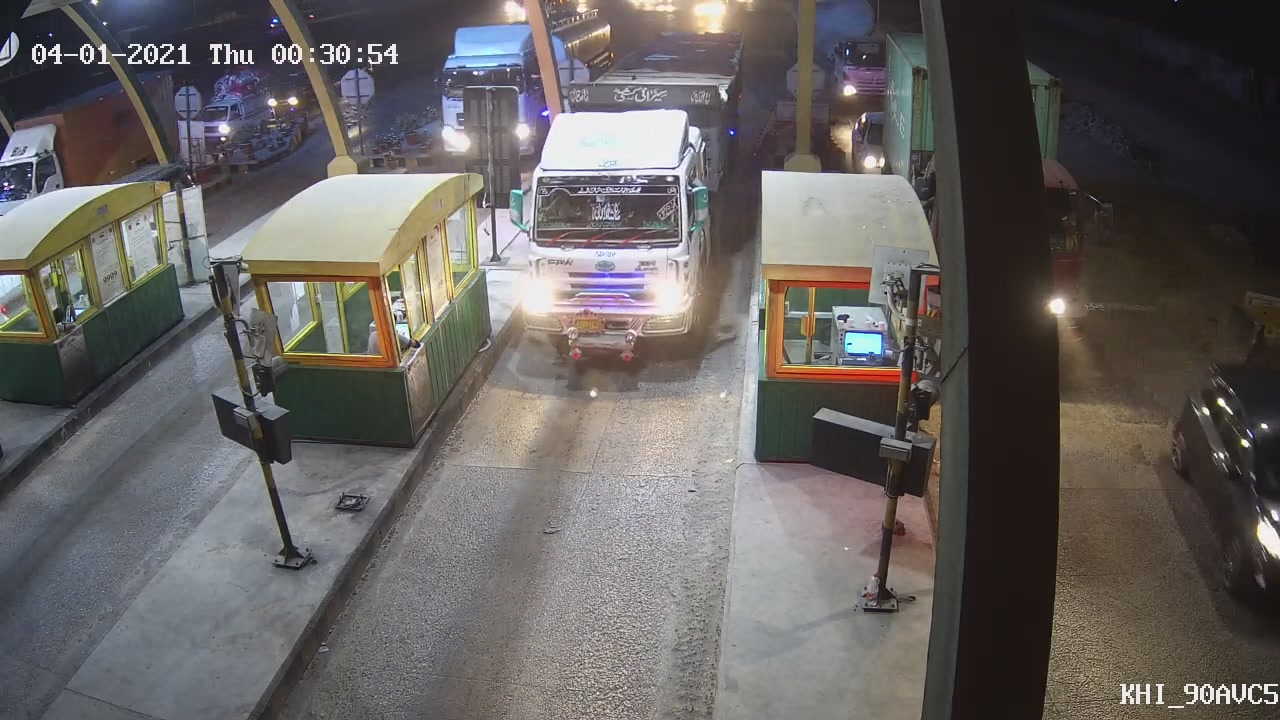F5: (478, 84, 738, 375)
